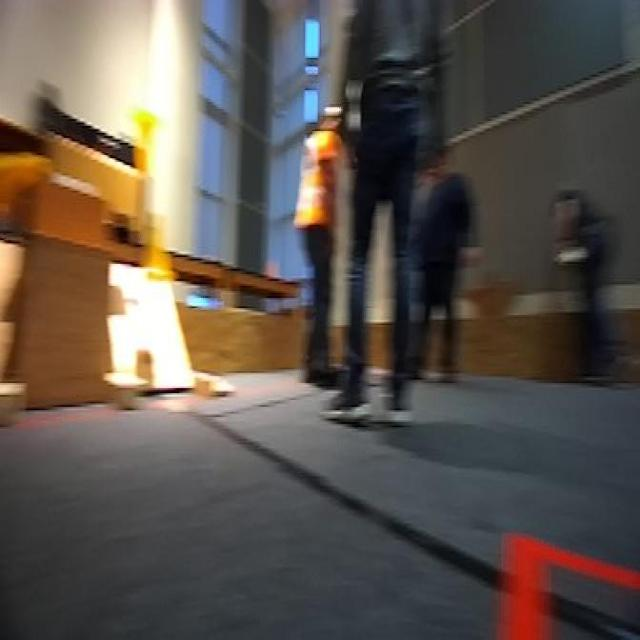frc_cone: (0, 136, 55, 218), (132, 97, 168, 175), (145, 215, 177, 291)
